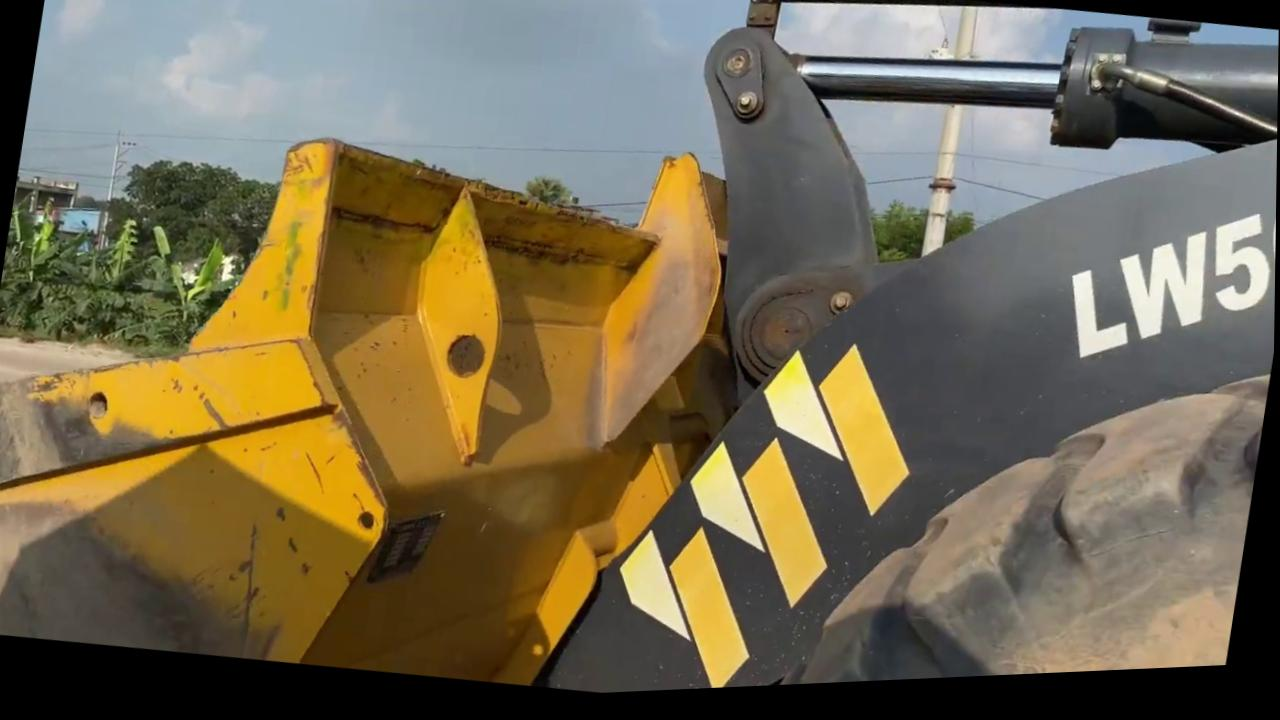Pole: (917, 13, 983, 269)
Traffic-sign: (102, 147, 282, 293), (863, 200, 980, 283)
Tree: (0, 0, 1280, 720)
